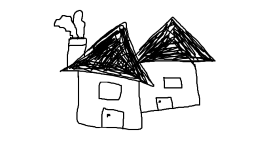door: (97, 104, 126, 134), (153, 92, 176, 115)
open_window: (95, 79, 127, 106), (159, 75, 186, 92)
shaded_roof: (59, 21, 155, 87), (134, 16, 217, 66)
smoking_chimney: (49, 8, 92, 68)
wall: (76, 70, 146, 132), (138, 62, 201, 113)
